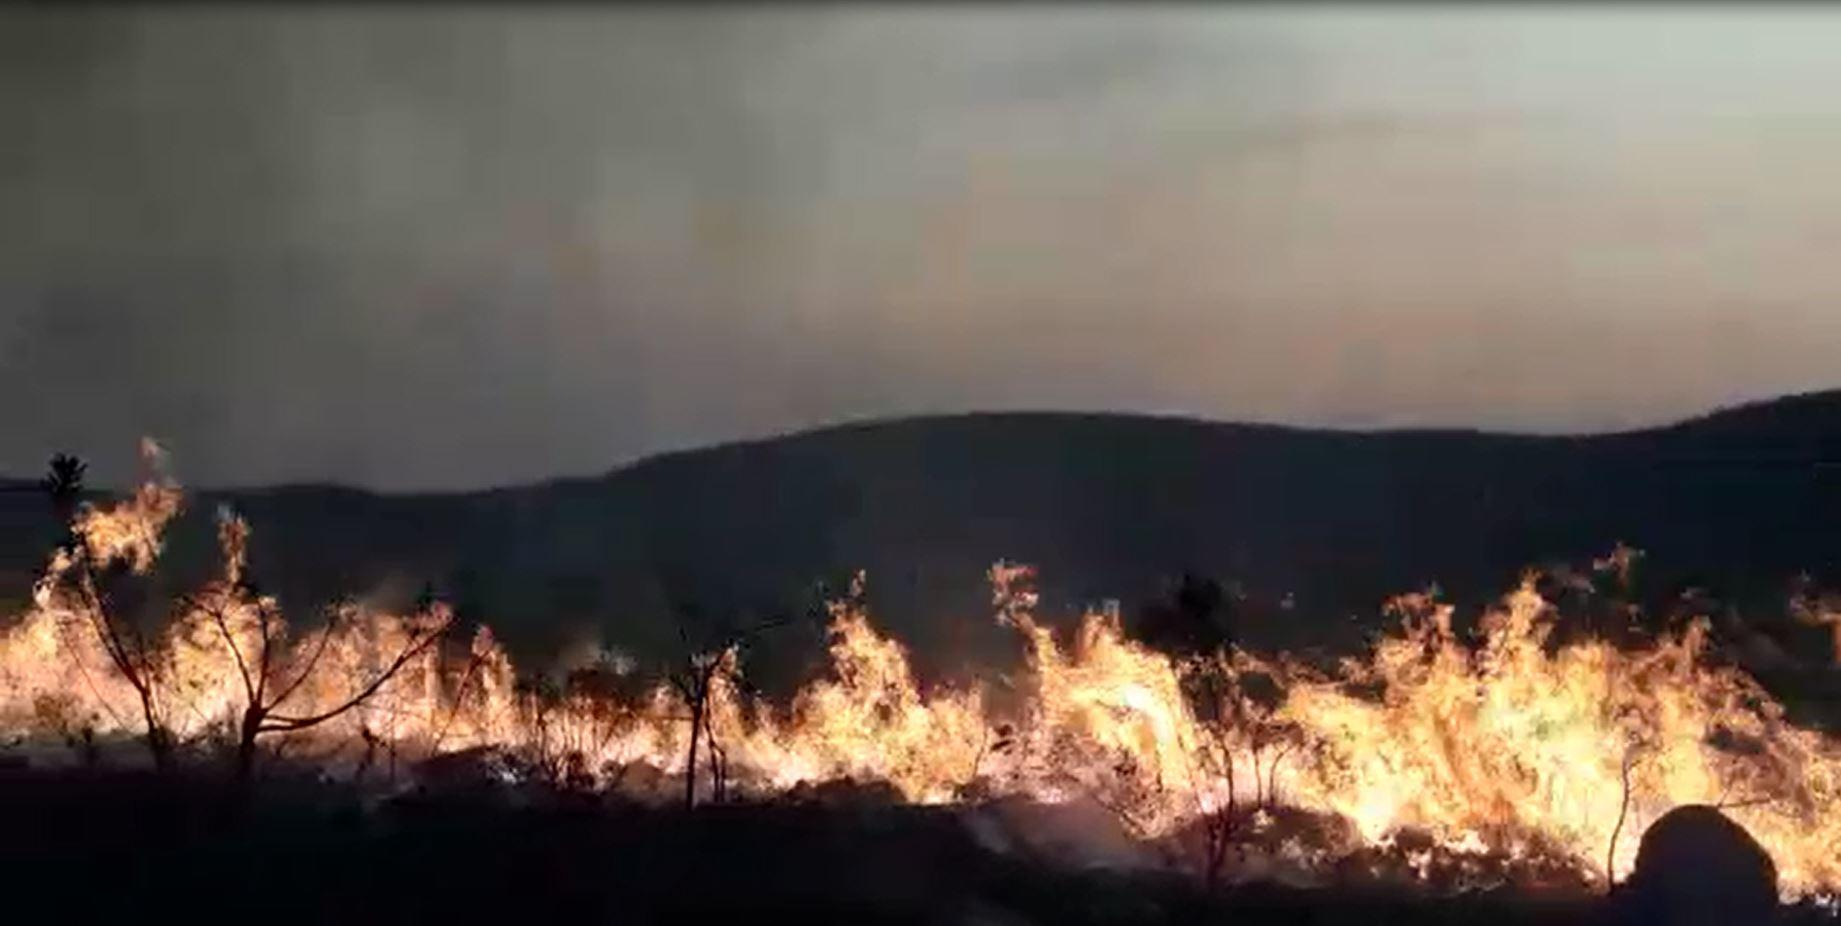Fire: (6, 438, 1837, 906)
